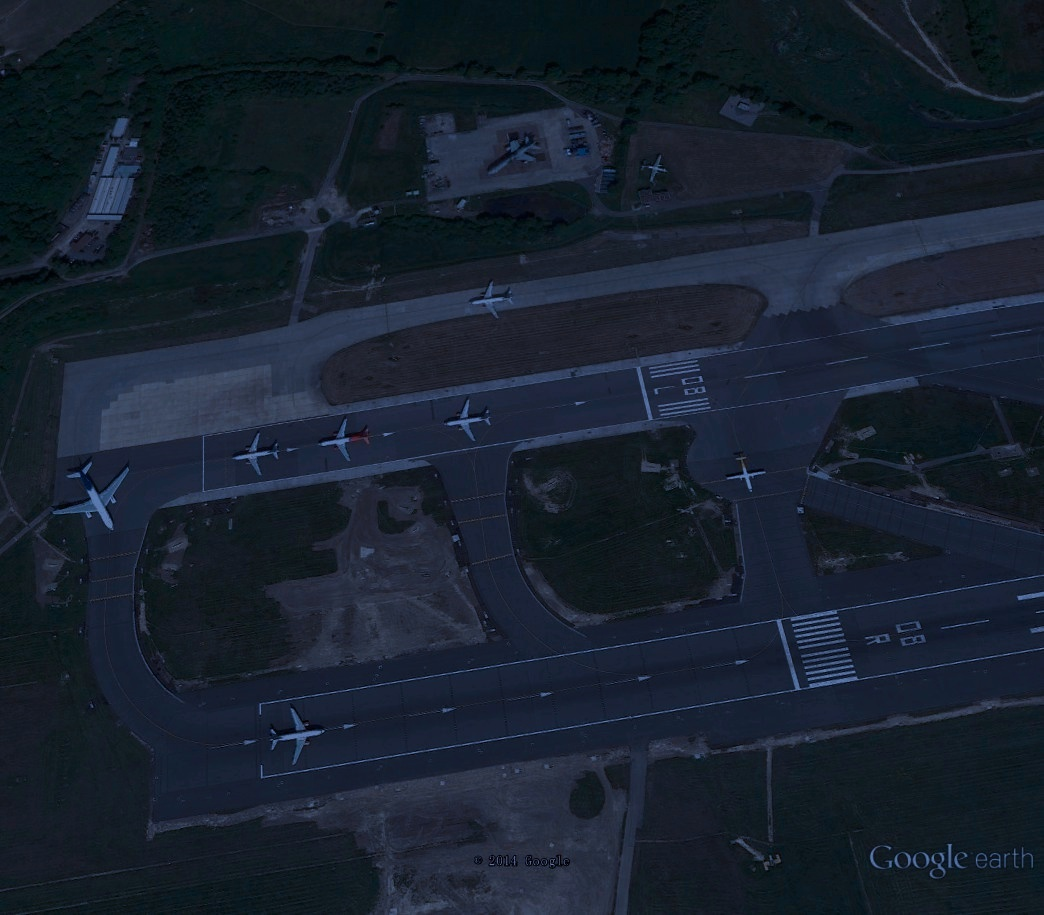aircraft: (45, 451, 135, 537), (264, 702, 330, 775), (312, 411, 375, 468), (439, 394, 496, 453), (484, 130, 546, 183), (228, 427, 285, 481), (466, 276, 519, 327), (721, 451, 771, 499), (637, 151, 675, 184)
